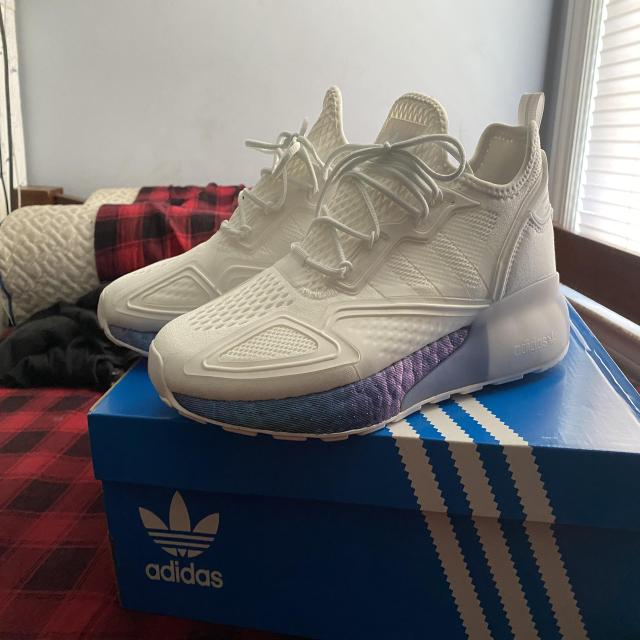shoe: (149, 107, 564, 445), (110, 88, 340, 324)
